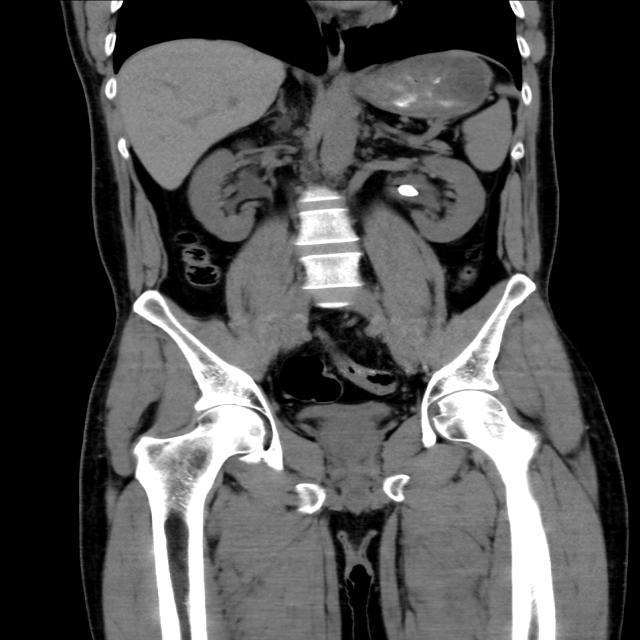kidneystone: (398, 185, 419, 197)
